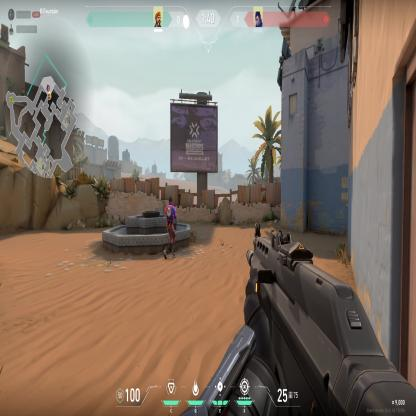enemy: (163, 194, 178, 263)
